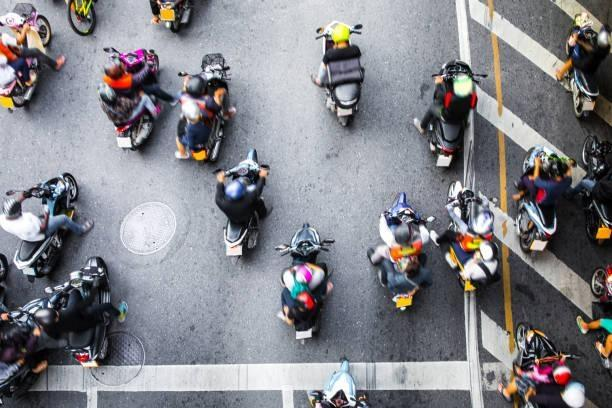Motorcycle: (431, 176, 502, 288), (42, 268, 124, 362), (312, 20, 374, 128), (106, 44, 164, 156), (0, 0, 54, 117), (279, 220, 330, 337), (380, 188, 426, 316), (414, 70, 466, 170), (514, 146, 562, 251), (19, 172, 76, 260), (224, 158, 270, 252), (510, 320, 559, 408), (562, 20, 602, 114)
